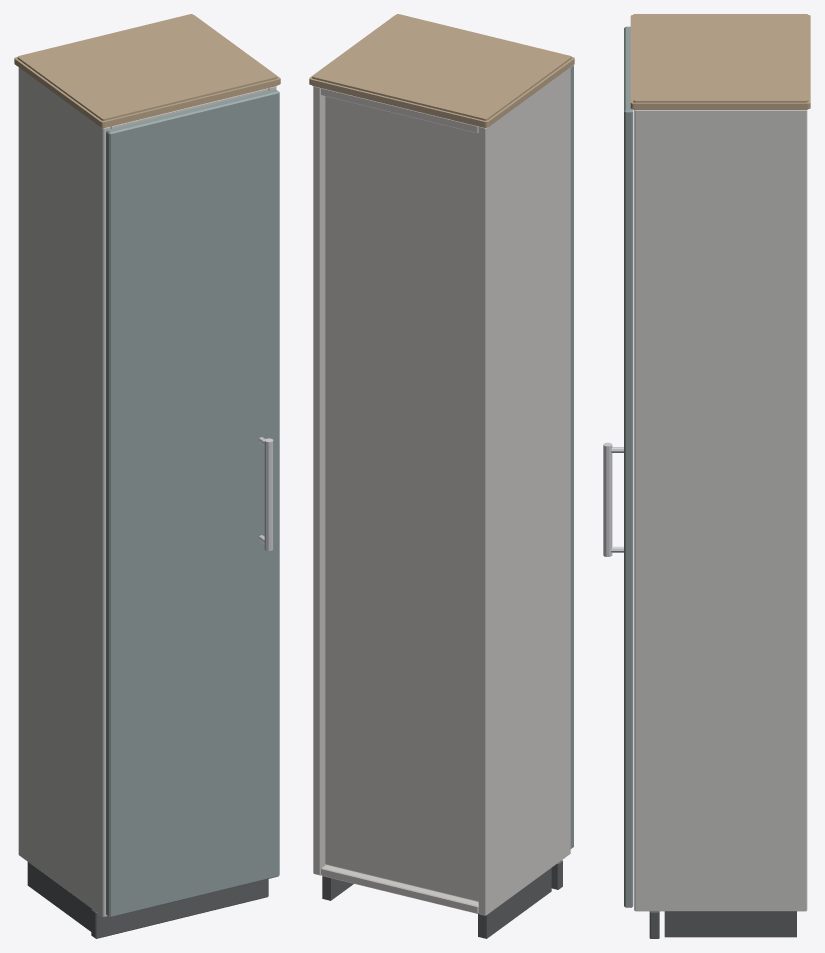
The model's file is fitted-kitchen-and-bathroom-builder-bathroom-tall-cabi-2270200d__17887.glb.
The picture shows the model from 3 angles, left to right: view 1: azimuth 30°, elevation 25°; view 2: azimuth 150°, elevation 25°; view 3: azimuth 270°, elevation 25°; orthographic projection.
Parts seen in each view (by area): view 1: door-left/front, bathroom-tall-cabinet, door-left/metal; view 2: bathroom-tall-cabinet, door-left/front; view 3: bathroom-tall-cabinet, door-left/front, door-left/metal.
Boxes of the visible parts, x1,y1,x2,y2 form: door-left/front: [106, 89, 279, 917]; bathroom-tall-cabinet: [14, 14, 280, 938]; door-left/metal: [258, 437, 273, 550]; bathroom-tall-cabinet: [309, 14, 574, 938]; door-left/front: [570, 65, 573, 848]; bathroom-tall-cabinet: [630, 14, 810, 938]; door-left/front: [624, 26, 633, 907]; door-left/metal: [603, 442, 623, 556].
Bounding box in the file's own units: 0.414 × 1.82 × 0.408.
